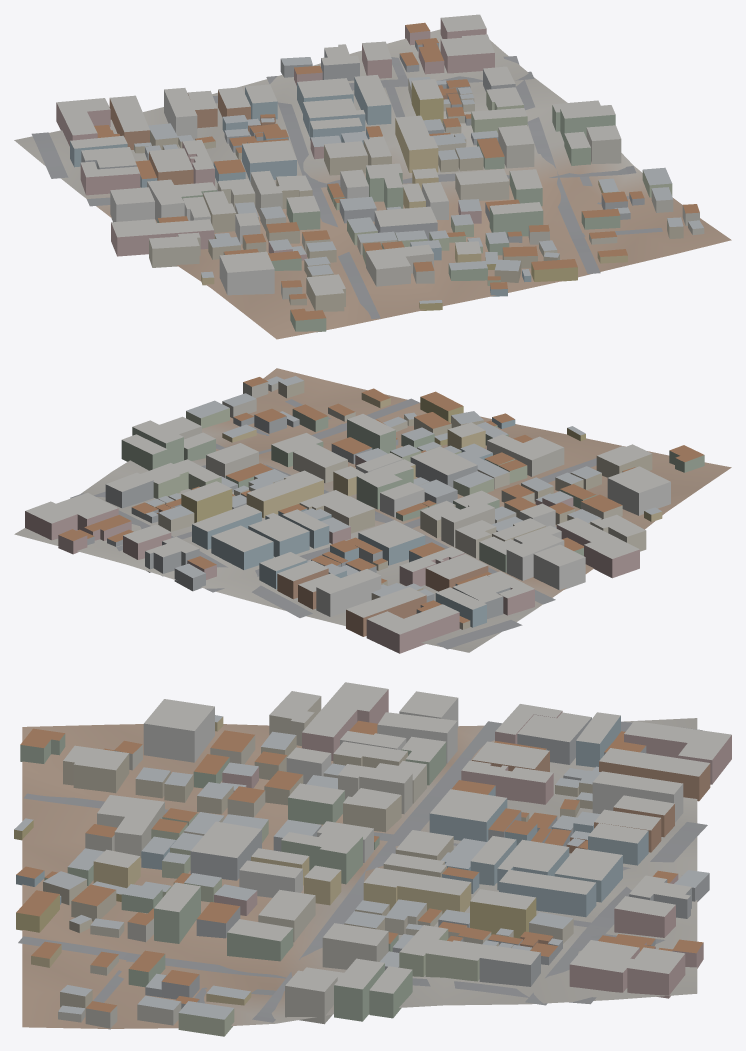
3 renders of one model, top to bottom at view 1: azimuth 30°, elevation 25°; view 2: azimuth 150°, elevation 25°; view 3: azimuth 270°, elevation 25°, orthographic. The views are drawn at different scales.
Visible parts, largest first — view 1: Lo; view 2: Lo; view 3: Lo.
Part boxes in pixels (bbox=[...]): Lo: bbox=[14, 14, 731, 339]; Lo: bbox=[14, 368, 731, 653]; Lo: bbox=[14, 682, 731, 1036].
Bounding box in the file's own units: 282 × 23.9 × 272.
